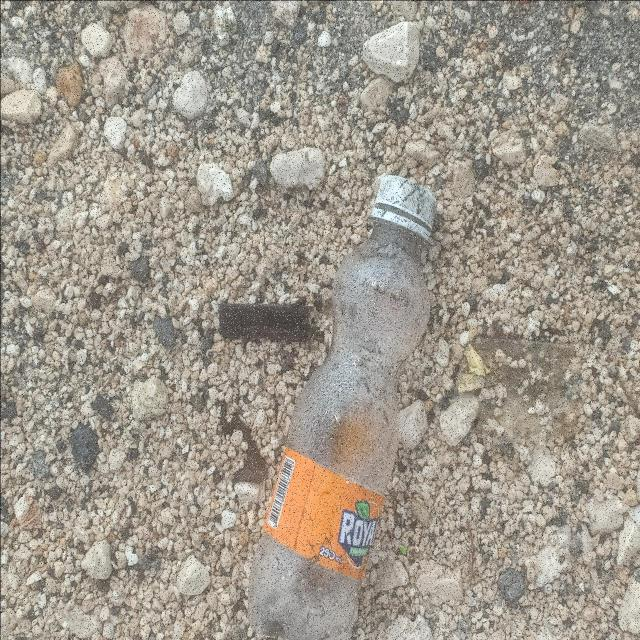plastic_waste: (247, 175, 439, 640)
